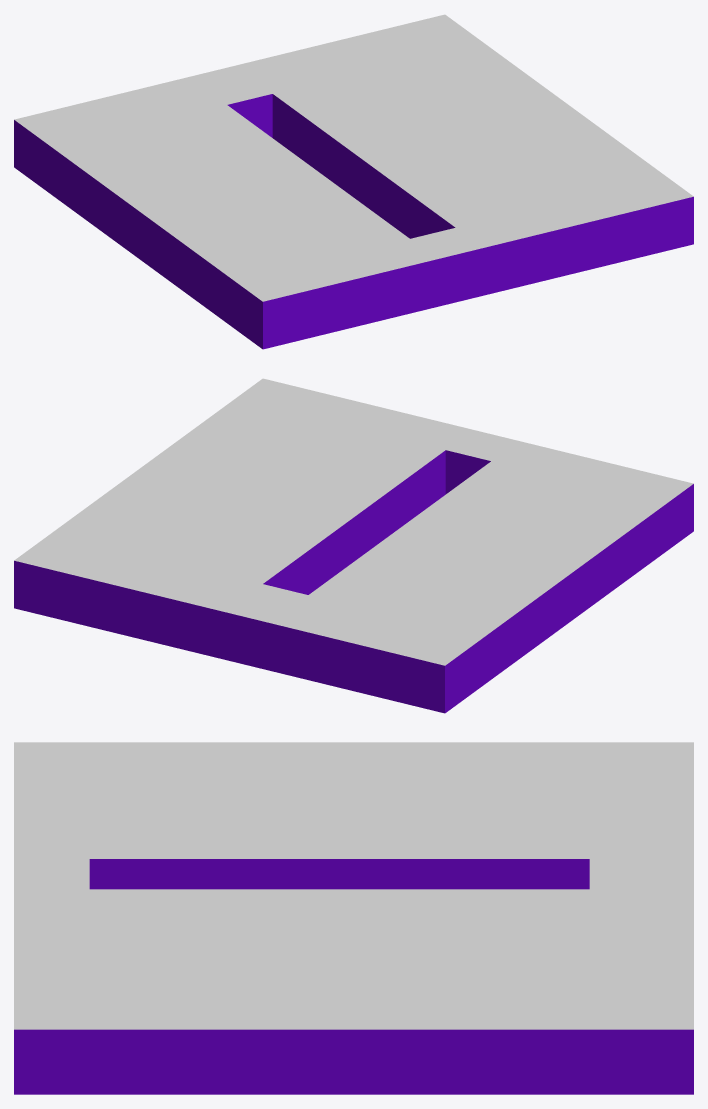
The model's file is stracout1.fbx.
The picture shows the model from 3 angles, top to bottom: view 1: azimuth 30°, elevation 25°; view 2: azimuth 150°, elevation 25°; view 3: azimuth 270°, elevation 25°; orthographic projection. The views are drawn at different scales.
Parts seen in each view (by area): view 1: 1; view 2: 1; view 3: 1.
Boxes of the visible parts, x1,y1,x2,y2 form: 1: [14, 14, 693, 349]; 1: [14, 378, 693, 713]; 1: [14, 742, 693, 1094].
Size of the model in its own units: 464 by 49.06 by 464.
